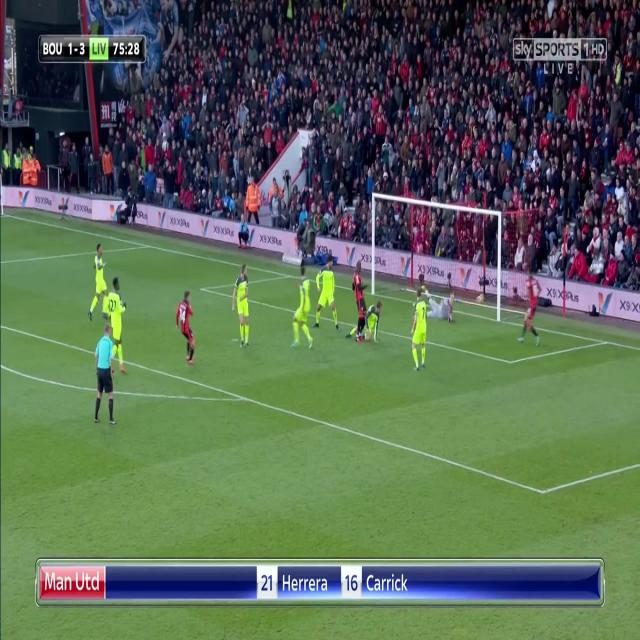Ball: (474, 291, 484, 306)
Goalkeeper: (422, 285, 458, 328)
Player: (312, 252, 342, 336), (107, 274, 130, 377), (516, 268, 544, 348), (290, 264, 314, 352), (231, 261, 254, 349), (175, 287, 198, 368), (409, 290, 430, 377), (88, 241, 110, 322), (344, 297, 384, 341), (351, 255, 368, 346)
Referee: (92, 324, 115, 428)
